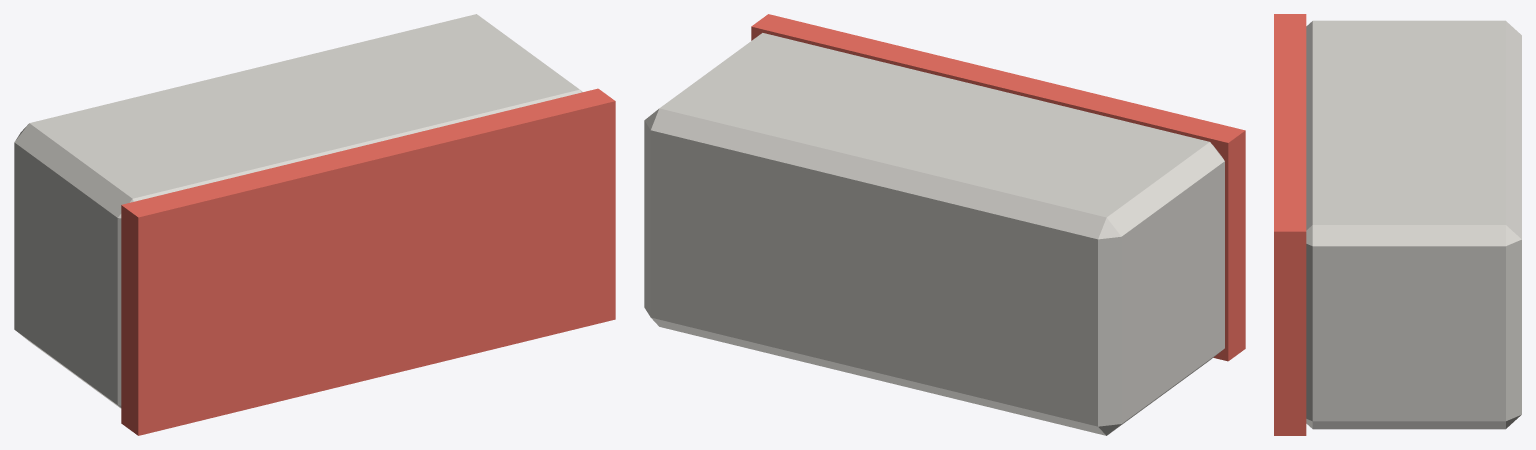
The model's file is tuff_block.glb.
3 views of the same model, side by side, from view 1: azimuth 30°, elevation 25°; view 2: azimuth 150°, elevation 25°; view 3: azimuth 270°, elevation 25° (orthographic). The views are drawn at different scales.
Visible parts, largest first — view 1: tuff_top, tuff_block; view 2: tuff_block, tuff_top; view 3: tuff_block, tuff_top.
Part boxes in pixels (x1=…): tuff_top: x1=121, y1=88, x2=615, y2=435; tuff_block: x1=14, y1=14, x2=582, y2=408; tuff_block: x1=644, y1=33, x2=1224, y2=435; tuff_top: x1=751, y1=14, x2=1245, y2=361; tuff_block: x1=1306, y1=20, x2=1521, y2=429; tuff_top: x1=1274, y1=14, x2=1306, y2=435.
Bounding box in the file's own units: 1.6 × 0.7 × 0.77.
